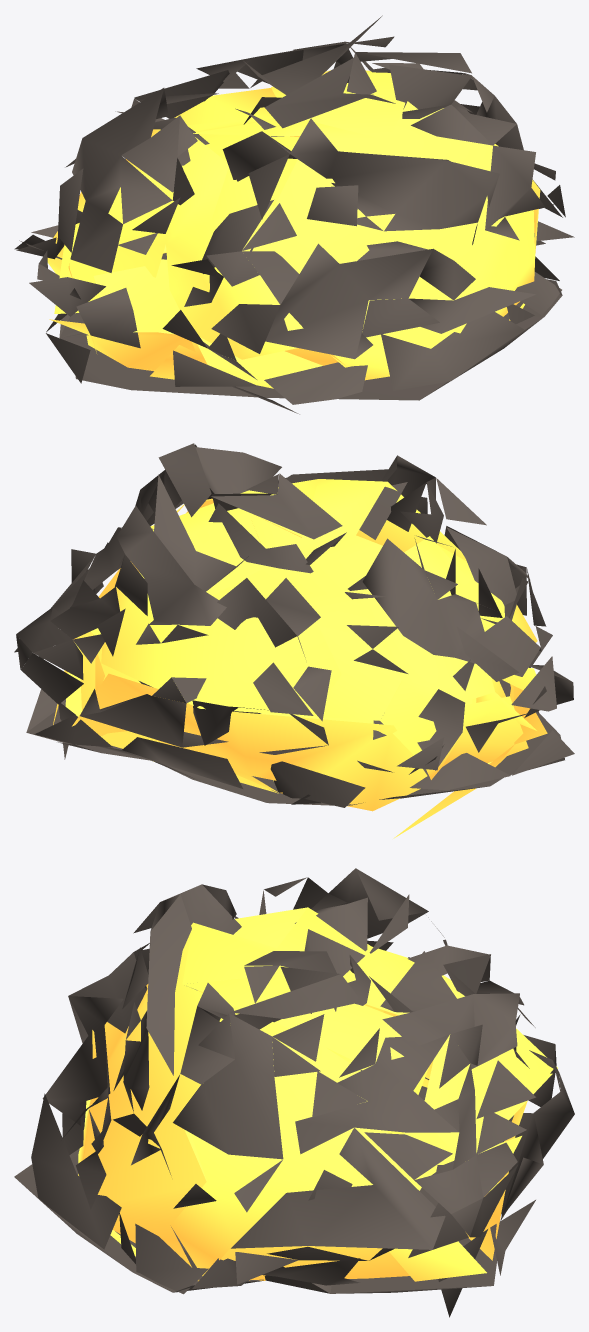
File: lava-rock-large-lod1.glb
The picture shows the model from 3 angles, top to bottom: view 1: azimuth 30°, elevation 25°; view 2: azimuth 150°, elevation 25°; view 3: azimuth 270°, elevation 25°; orthographic projection. The views are drawn at different scales.
Parts seen in each view (by area): view 1: lava-rock-large; view 2: lava-rock-large; view 3: lava-rock-large.
Boxes of the visible parts, x1=… form: lava-rock-large: x1=14, y1=15, x2=574, y2=414; lava-rock-large: x1=14, y1=443, x2=574, y2=838; lava-rock-large: x1=14, y1=868, x2=574, y2=1317.
Size of the model in its own units: 6.8 by 3.59 by 5.83.
